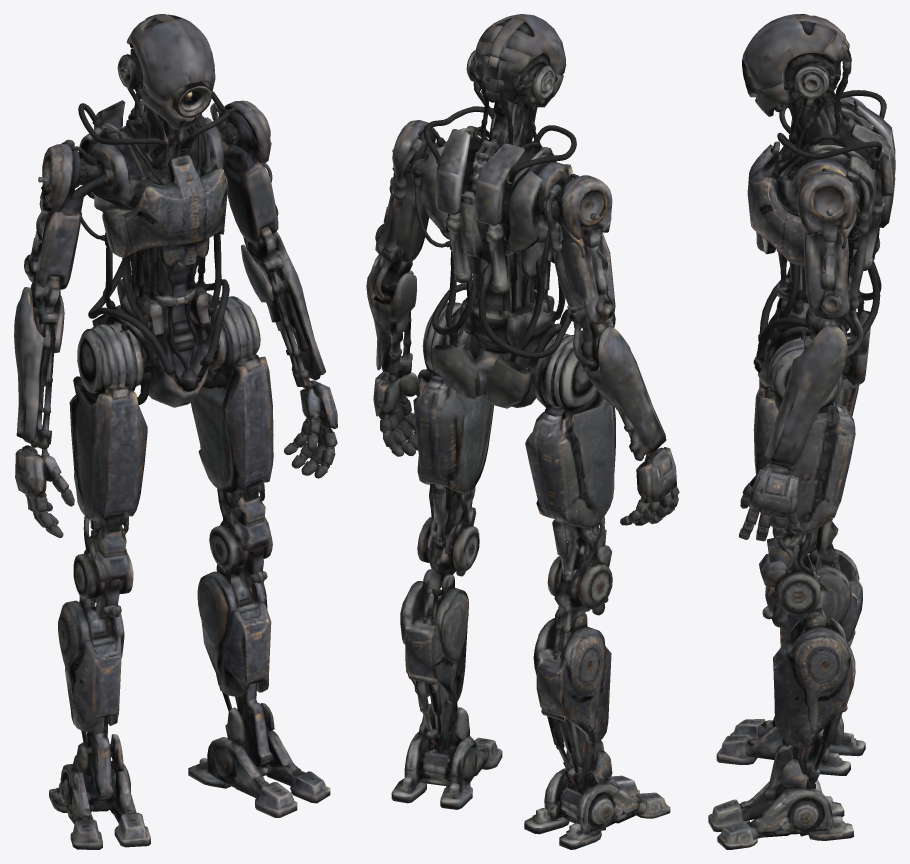
The model's file is robo_smooth_parts.glb.
3 views of the same model, side by side, from view 1: azimuth 30°, elevation 25°; view 2: azimuth 150°, elevation 25°; view 3: azimuth 270°, elevation 25° (orthographic).
Parts seen in each view (by area): view 1: tripo_part_30, tripo_part_12, tripo_part_1, tripo_part_22, tripo_part_0, tripo_part_25, tripo_part_34, tripo_part_6, tripo_part_11, tripo_part_2, tripo_part_10, tripo_part_9 (+20 smaller); view 2: tripo_part_0, tripo_part_30, tripo_part_12, tripo_part_1, tripo_part_34, tripo_part_25, tripo_part_6, tripo_part_11, tripo_part_5, tripo_part_7, tripo_part_10, tripo_part_9 (+28 smaller); view 3: tripo_part_12, tripo_part_25, tripo_part_2, tripo_part_6, tripo_part_10, tripo_part_9, tripo_part_0, tripo_part_22, tripo_part_7, tripo_part_29, tripo_part_34, tripo_part_24 (+26 smaller).
Boxes of the visible parts, bbox=[...] form: tripo_part_30: bbox=[69, 376, 147, 558]; tripo_part_12: bbox=[191, 352, 273, 527]; tripo_part_1: bbox=[24, 132, 170, 313]; tripo_part_22: bbox=[102, 154, 228, 267]; tripo_part_0: bbox=[88, 247, 229, 407]; tripo_part_25: bbox=[197, 564, 271, 696]; tripo_part_34: bbox=[58, 596, 124, 732]; tripo_part_6: bbox=[126, 14, 215, 129]; tripo_part_11: bbox=[14, 287, 64, 446]; tripo_part_2: bbox=[218, 100, 278, 242]; tripo_part_10: bbox=[241, 231, 325, 389]; tripo_part_9: bbox=[207, 703, 304, 799]; tripo_part_0: bbox=[432, 227, 571, 408]; tripo_part_30: bbox=[525, 390, 615, 584]; tripo_part_12: bbox=[413, 368, 493, 554]; tripo_part_1: bbox=[503, 154, 615, 363]; tripo_part_34: bbox=[533, 609, 611, 744]; tripo_part_25: bbox=[400, 569, 468, 703]; tripo_part_6: bbox=[471, 14, 566, 107]; tripo_part_11: bbox=[579, 327, 666, 454]; tripo_part_5: bbox=[544, 750, 646, 834]; tripo_part_7: bbox=[464, 50, 555, 231]; tripo_part_10: bbox=[366, 254, 416, 379]; tripo_part_9: bbox=[404, 703, 487, 789]; tripo_part_12: bbox=[753, 385, 855, 585]; tripo_part_25: bbox=[773, 611, 855, 748]; tripo_part_2: bbox=[797, 171, 856, 319]; tripo_part_6: bbox=[742, 14, 850, 116]; tripo_part_10: bbox=[764, 324, 847, 466]; tripo_part_9: bbox=[739, 759, 832, 839]; tripo_part_0: bbox=[753, 208, 881, 388]; tripo_part_22: bbox=[747, 141, 805, 265]; tripo_part_7: bbox=[775, 54, 878, 179]; tripo_part_29: bbox=[759, 553, 828, 627]; tripo_part_34: bbox=[780, 549, 862, 647]; tripo_part_24: bbox=[748, 463, 798, 517].
Size of the model in its own units: 0.402 by 1 by 0.2193.
Materials: 1 (1 with a texture image).
